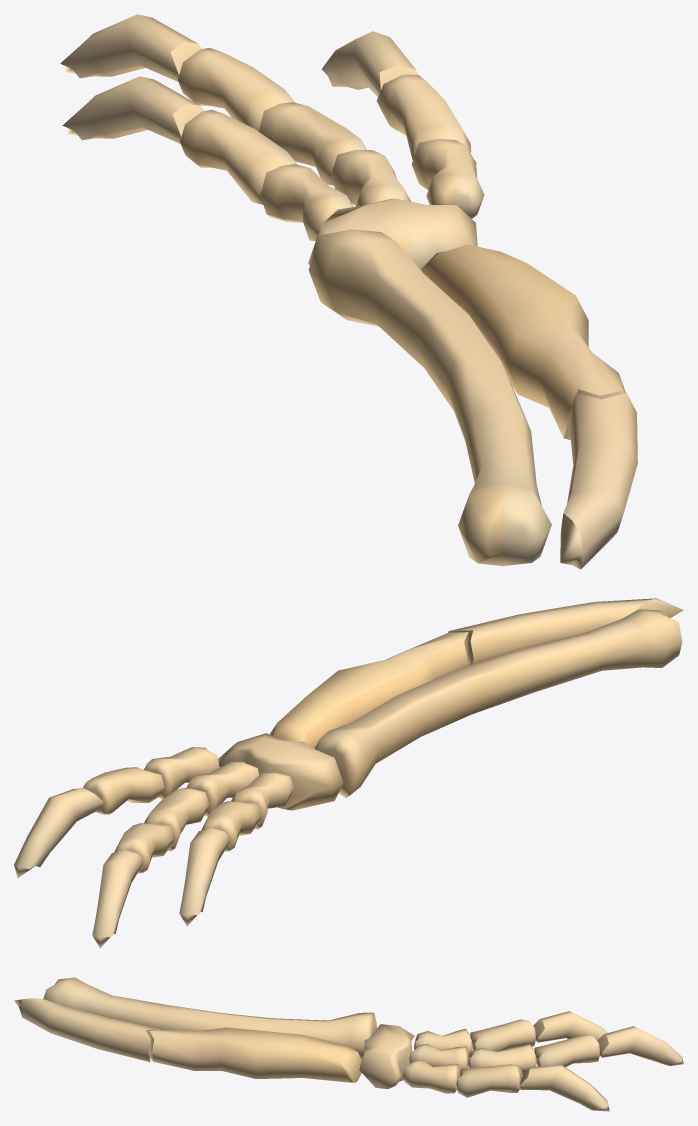
Rendered from BoneArm.fbx.
3 renders of one model, top to bottom at view 1: azimuth 30°, elevation 25°; view 2: azimuth 150°, elevation 25°; view 3: azimuth 270°, elevation 25°, orthographic. The views are drawn at different scales.
Visible parts, largest first — view 1: polySurface43; view 2: polySurface43; view 3: polySurface43.
Part boxes in pixels (box(x1,y1,x2,y2)): polySurface43: box(60, 14, 637, 569); polySurface43: box(14, 598, 683, 948); polySurface43: box(14, 977, 683, 1111).
Size of the model in its own units: 4.95 by 1.02 by 13.47.
